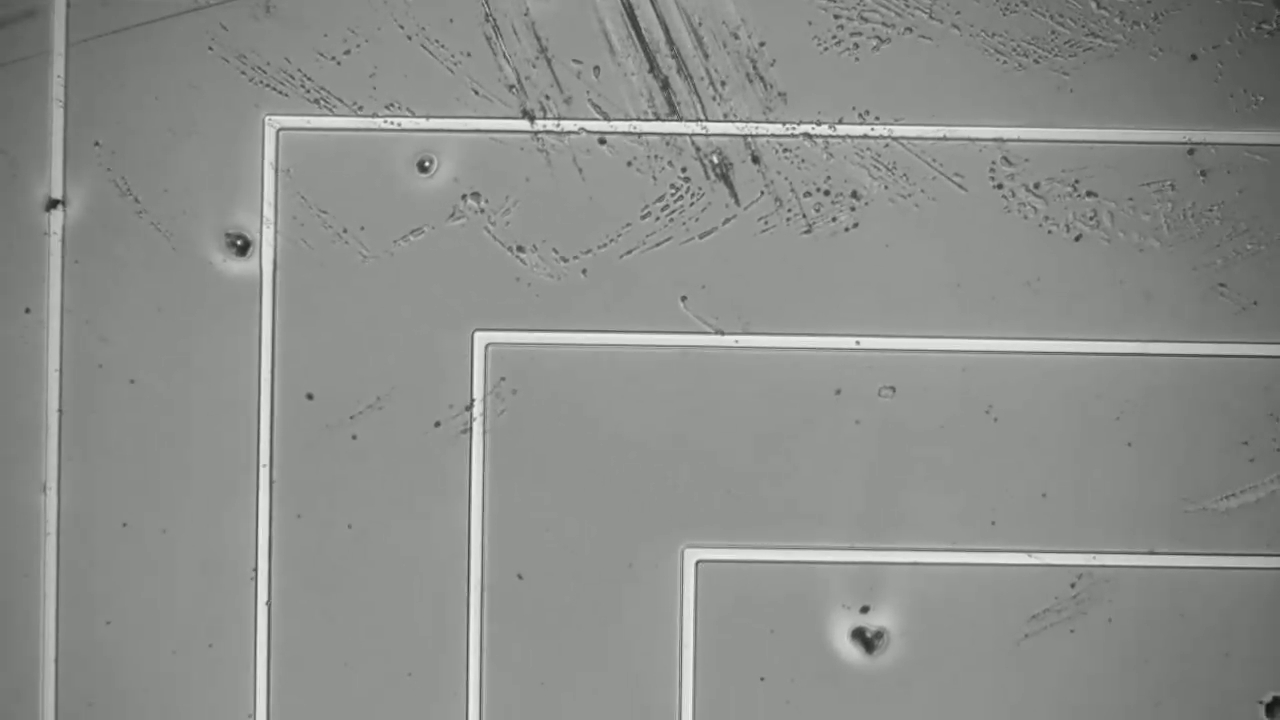scratch: (1, 13, 204, 70), (488, 16, 549, 166), (656, 12, 714, 125), (617, 5, 675, 107), (534, 7, 573, 101)
